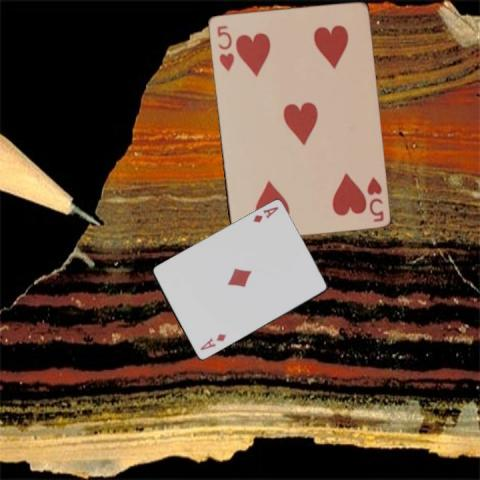5h: (214, 22, 235, 73), (364, 173, 385, 223)
Ad: (198, 331, 228, 352), (250, 204, 280, 224)
